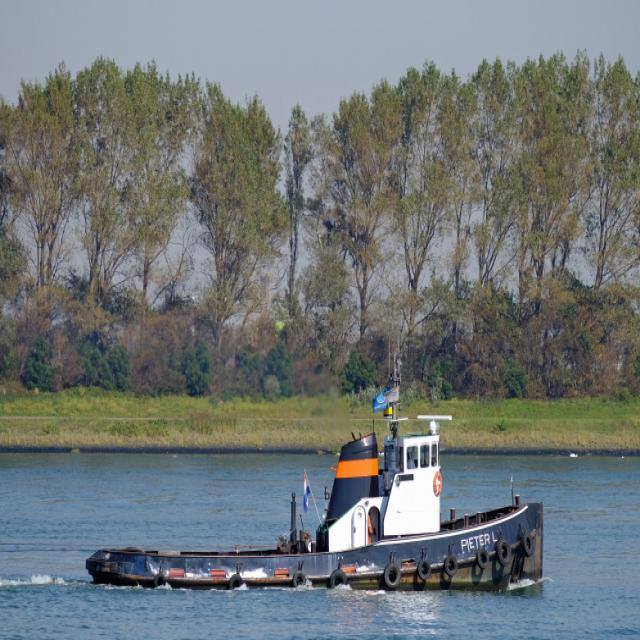tugboat: (84, 340, 550, 602)
